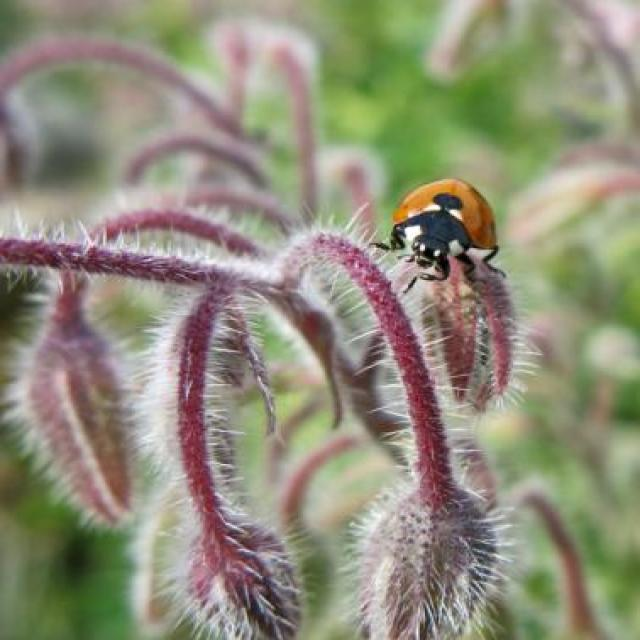body: (396, 175, 500, 270)
insect: (370, 171, 511, 296)
legs: (462, 238, 507, 283), (404, 261, 466, 293), (371, 226, 405, 260)
wings: (397, 178, 499, 250)
